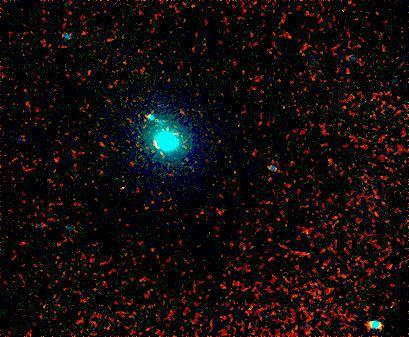star: (331, 0, 361, 27)
